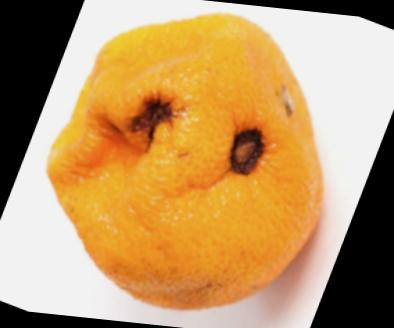Orange Rotten: (30, 0, 353, 327)
